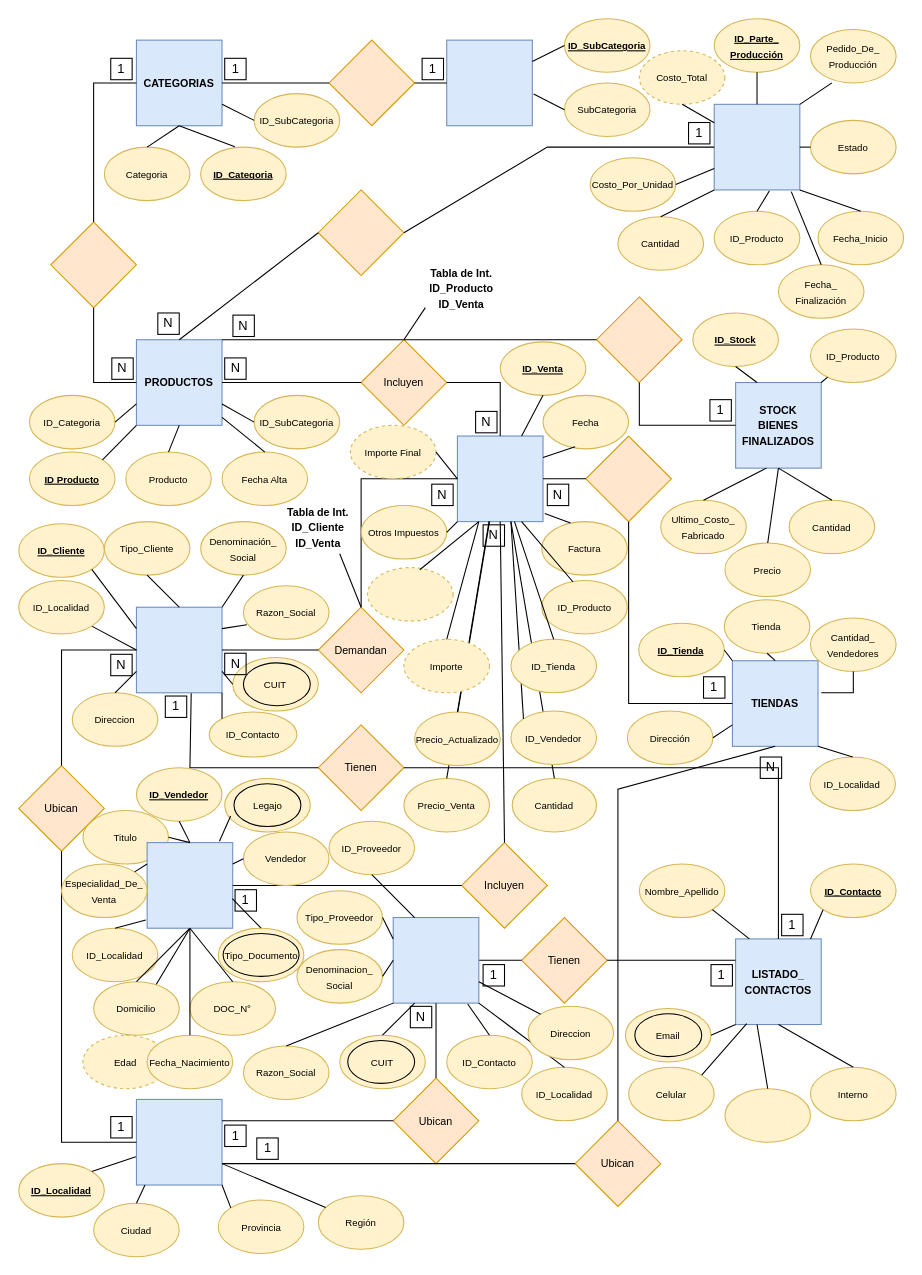
Image size: 922x1275. Some labels were removed from this diagram. Each missing label, with the centre of its shape:
"Categorizan" goes at point (93, 264).
"CLIENTES" goes at point (178, 649).
"Contienen" goes at point (638, 339).
"Fabrican" goes at point (360, 232).
"Generan" goes at point (628, 478).
"IVA" goes at point (409, 594).
"Llevan" goes at point (371, 82).
"LOCALIDADES" goes at point (178, 1141).
"PARTES DE PRODUCCIÓN" goes at point (756, 146).
"PROVEEDORES" goes at point (435, 959).
"SUB_ CATEGORIAS" goes at point (489, 82).
"Telefono" goes at point (767, 1115).
"VENDEDORES" goes at point (189, 885).
"VENTAS" goes at point (499, 478).
